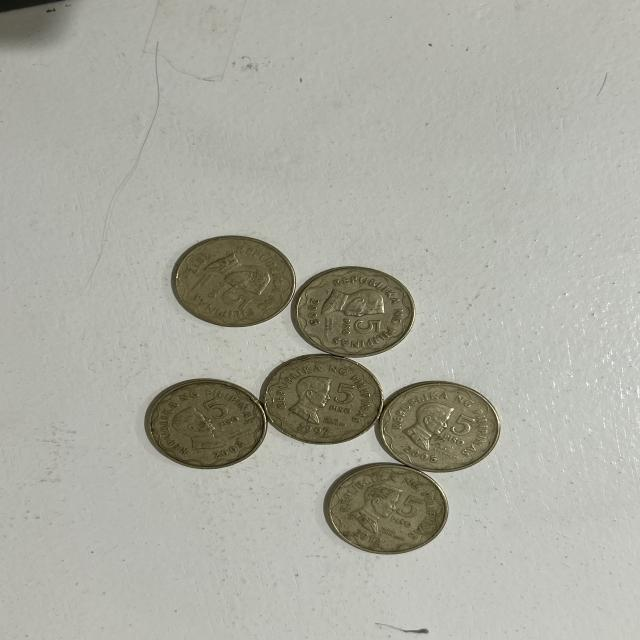5_Old_Front: (387, 489, 430, 542), (442, 406, 484, 451), (200, 277, 249, 314), (330, 312, 387, 341), (201, 396, 244, 431), (322, 379, 352, 424)
